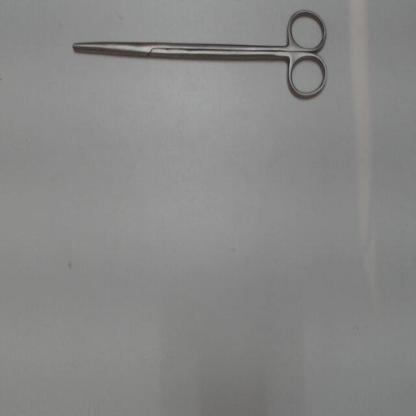9 Metzenbaum Scissors: (69, 5, 332, 104)
